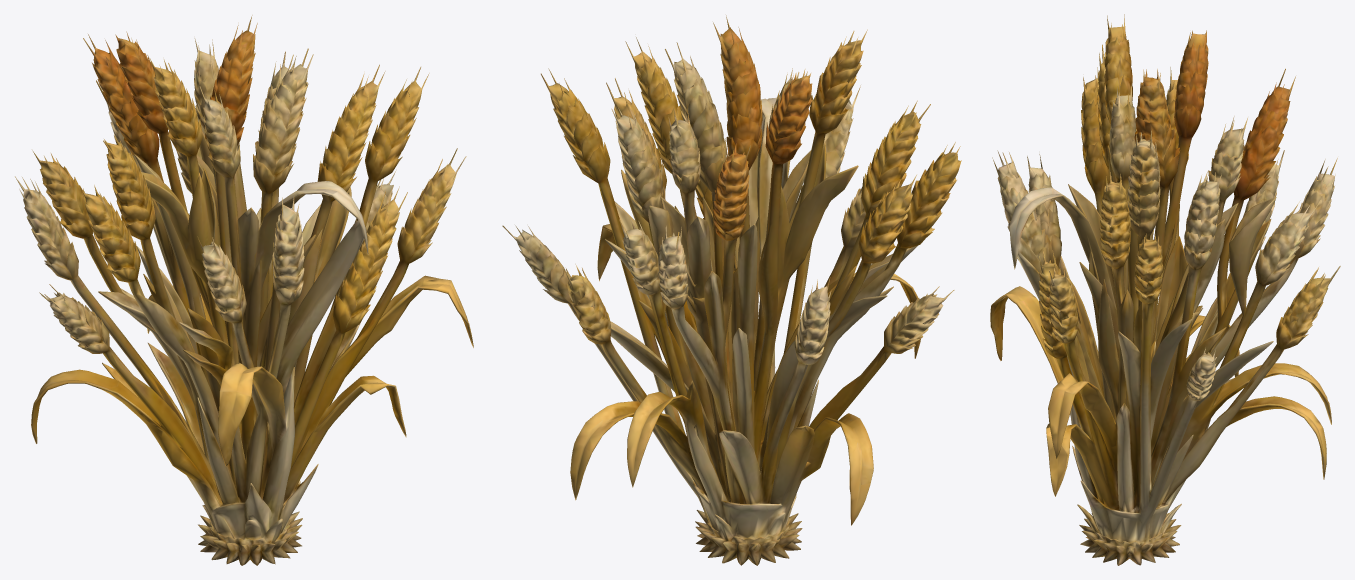
The model's file is wheat_bundle.glb.
3 views of the same model, side by side, from view 1: azimuth 30°, elevation 25°; view 2: azimuth 150°, elevation 25°; view 3: azimuth 270°, elevation 25° (orthographic). The views are drawn at different scales.
Parts seen in each view (by area): view 1: node_0; view 2: node_0; view 3: node_0.
Part boxes in pixels (x1,y1,x2,y2): node_0: (15, 15, 473, 565); node_0: (502, 15, 961, 565); node_0: (990, 14, 1340, 565).
Size of the model in its own units: 0.8712 by 1.09 by 0.7124.
Materials: 1 (1 with a texture image).
